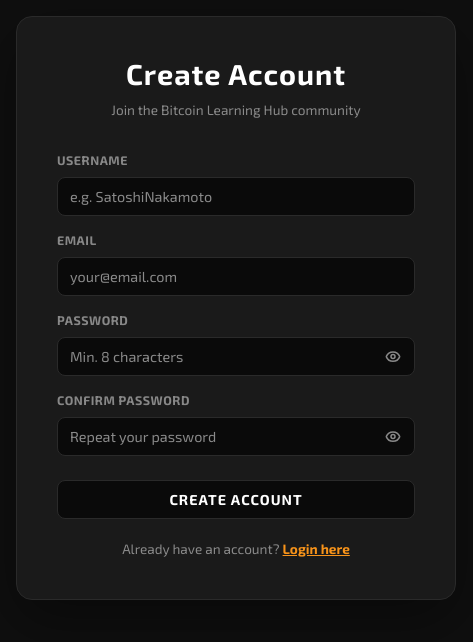
Test case: Register form › rejects an invalid email
In the field labelled "Username": {"x": 236, "y": 196} [57,177,415,216], type "martin"
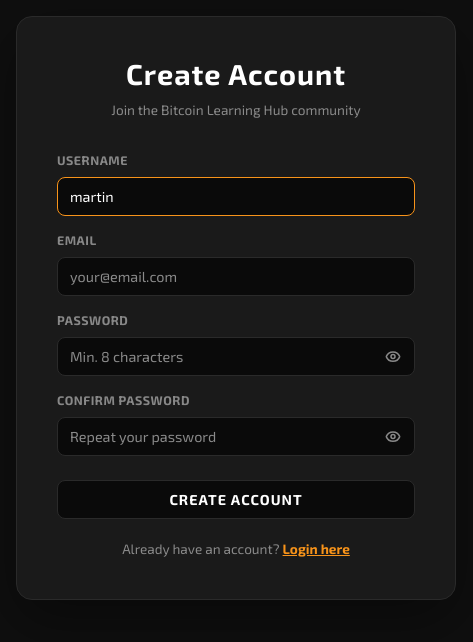
In the field labelled "Email": {"x": 236, "y": 277} [57,257,415,296], type "not-an-email"
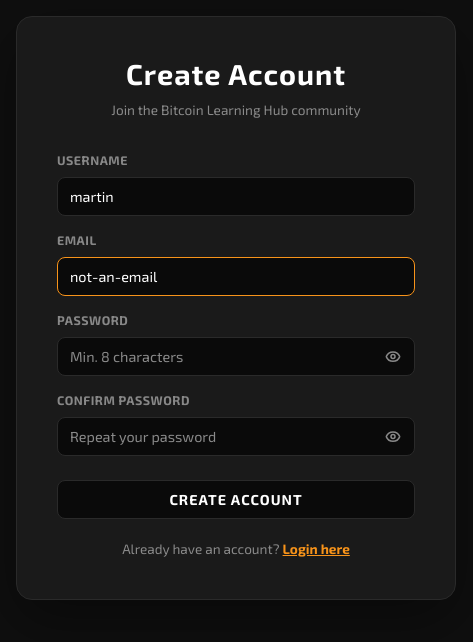
In the password field labelled "Password": {"x": 236, "y": 357} [57,337,415,376], type "supersecret1"
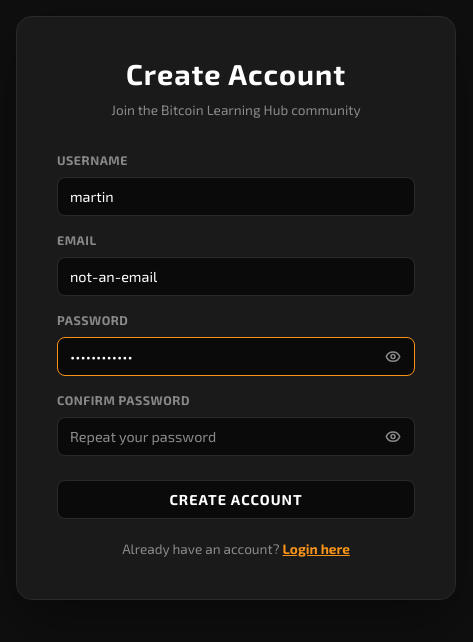
In the password field labelled "Confirm Password": {"x": 236, "y": 437} [57,417,415,456], type "supersecret1"
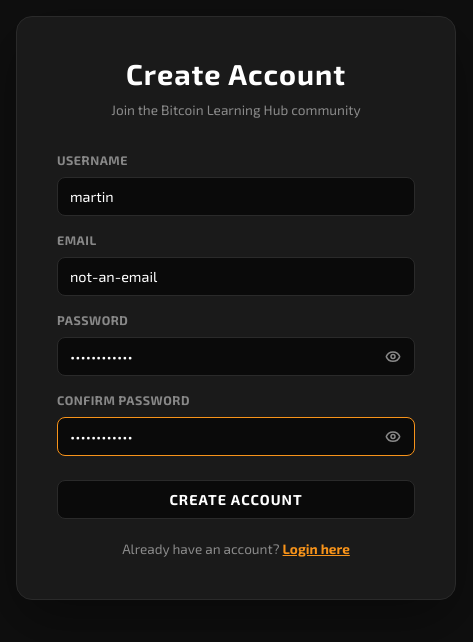
Click the button "Create Account": {"x": 236, "y": 500} [57,480,415,519]
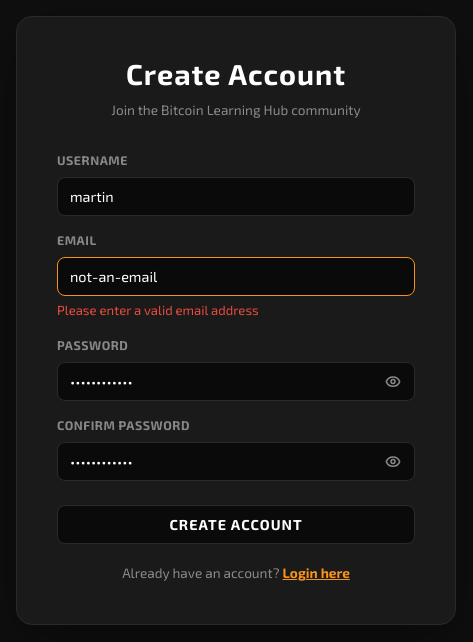
Expected: the text "Please enter a valid email address" is shown, [57,302,259,318]
